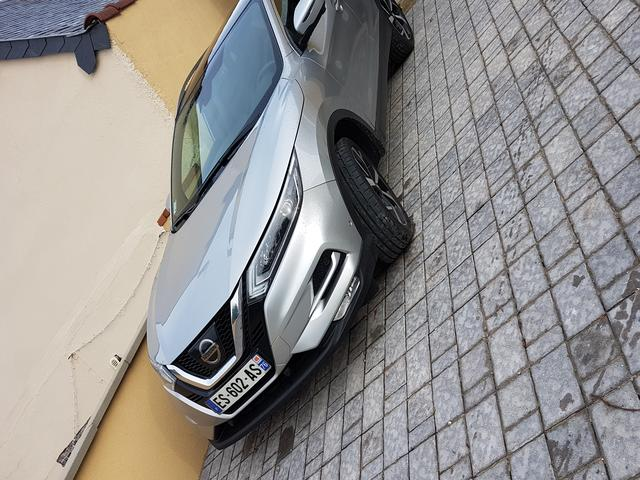Quashquai: (197, 352, 285, 418)
